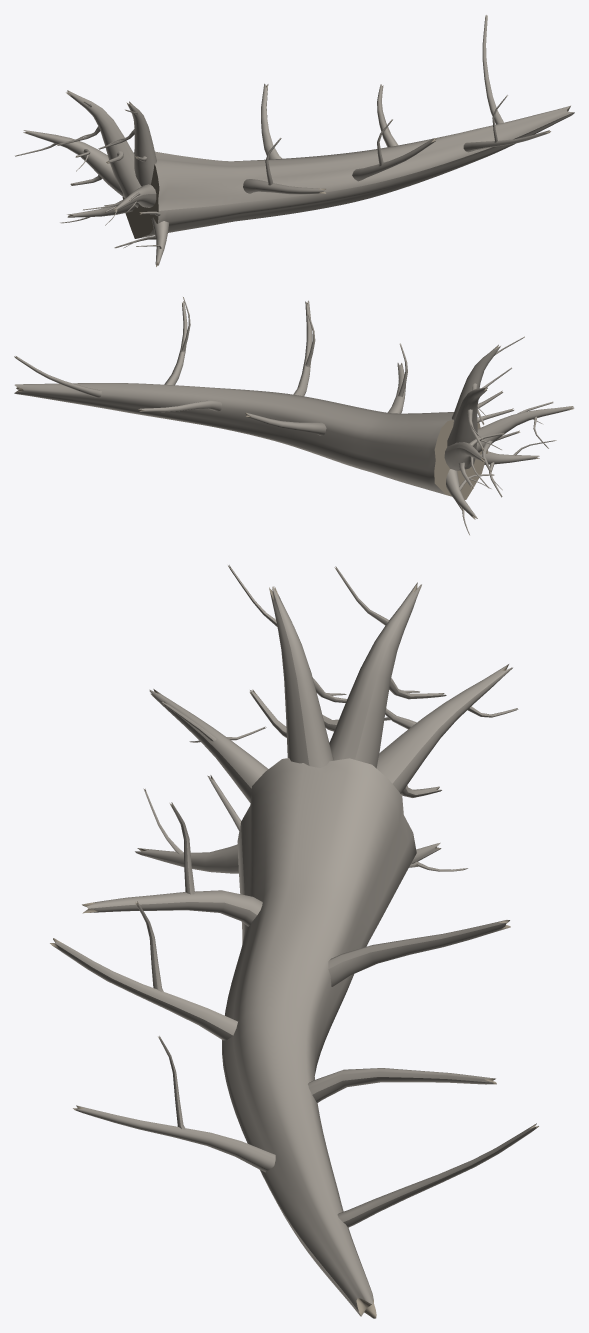
Rendered from corealm_deadwood_fallen.glb.
3 renders of one model, top to bottom at view 1: azimuth 30°, elevation 25°; view 2: azimuth 150°, elevation 25°; view 3: azimuth 270°, elevation 25°, orthographic. The views are drawn at different scales.
Visible parts, largest first — view 1: corealm_deadwood_fallen; view 2: corealm_deadwood_fallen; view 3: corealm_deadwood_fallen.
Part boxes in pixels (x1=…): corealm_deadwood_fallen: x1=15, y1=15, x2=574, y2=266; corealm_deadwood_fallen: x1=14, y1=297, x2=574, y2=535; corealm_deadwood_fallen: x1=50, y1=565, x2=538, y2=1318.
Size of the model in its own units: 9.84 by 2.83 by 4.07.
